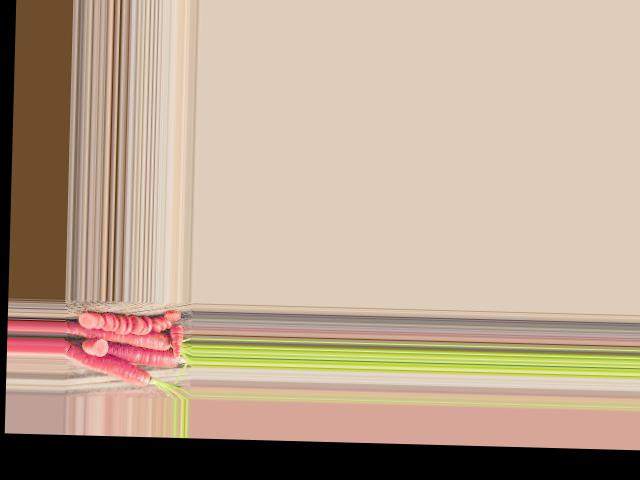carrot: (62, 320, 177, 355)
